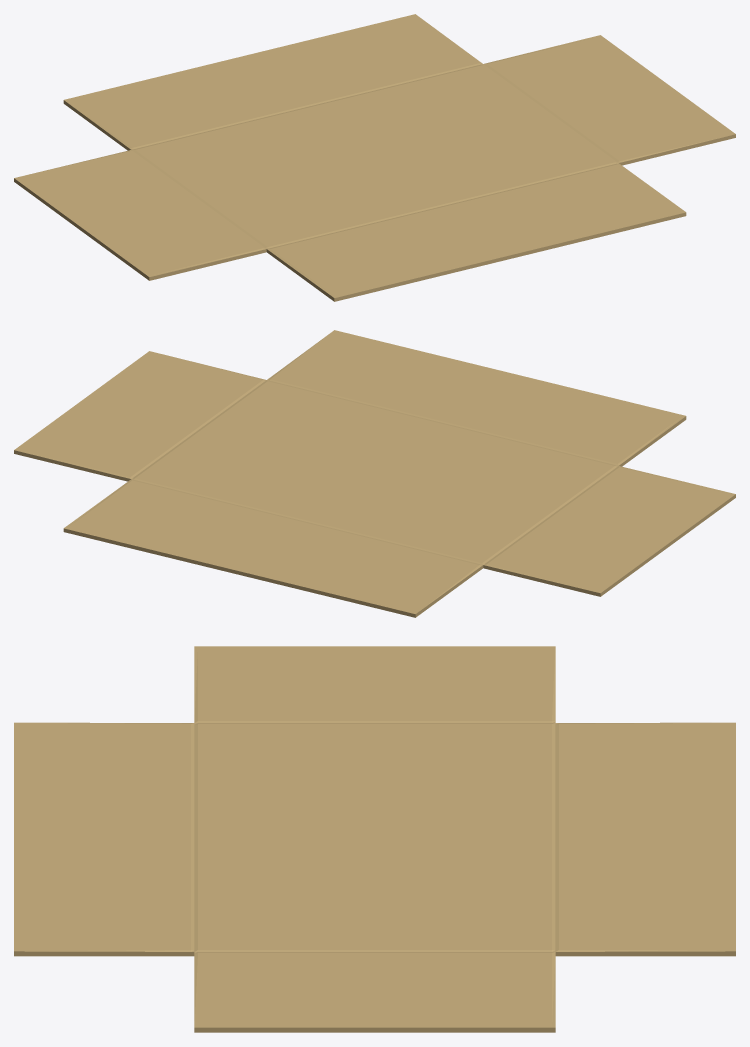
Rendered from paper.glb.
3 renders of one model, top to bottom at view 1: azimuth 30°, elevation 25°; view 2: azimuth 150°, elevation 25°; view 3: azimuth 270°, elevation 25°, orthographic. The views are drawn at different scales.
Parts seen in each view (by area): view 1: ActualCrossBlankStage4; view 2: ActualCrossBlankStage4; view 3: ActualCrossBlankStage4.
Part boxes in pixels (x1,y1,x2,y2): ActualCrossBlankStage4: [14, 14, 735, 301]; ActualCrossBlankStage4: [14, 330, 735, 617]; ActualCrossBlankStage4: [14, 646, 735, 1032].
Size of what is drawn, in the model's own units: 0.5 by 0.003 by 0.4.
